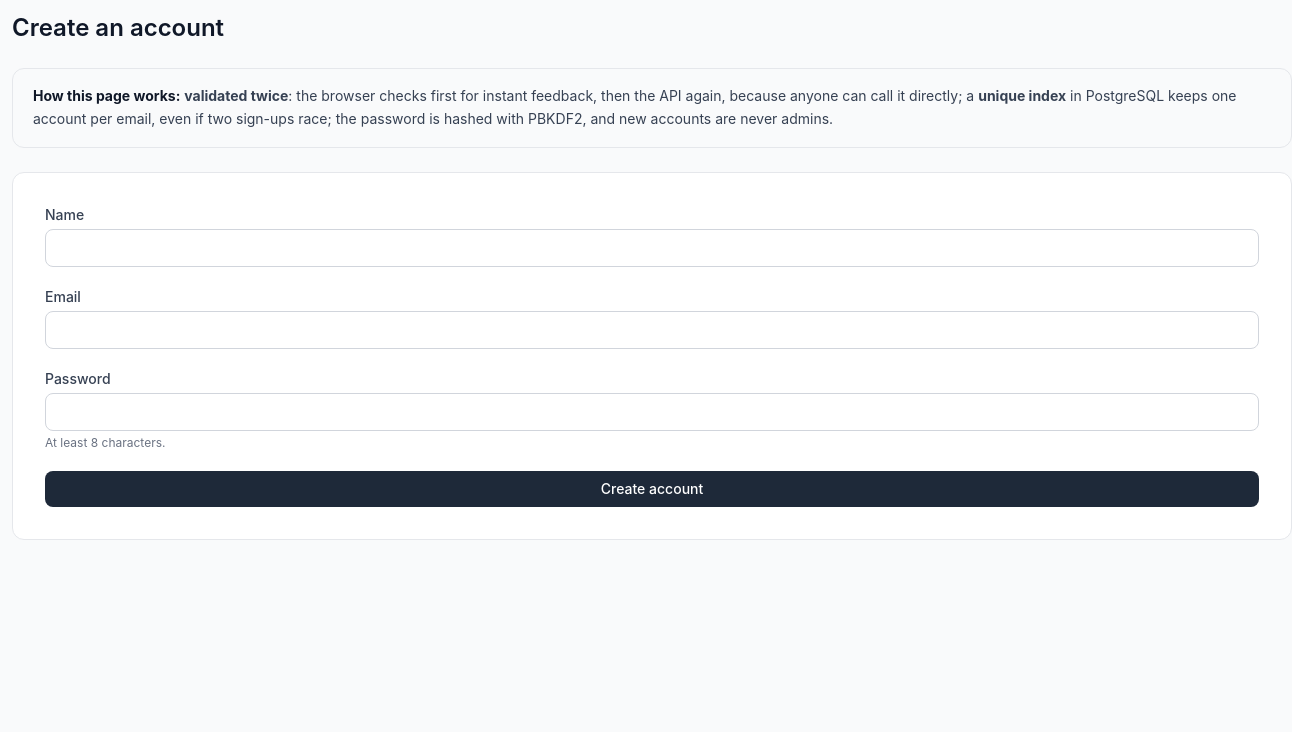
RegisterPage › shows validation errors under each named field
Type "New User" into the field labelled "Name" at x=652, y=248, box [45,228,1259,266]
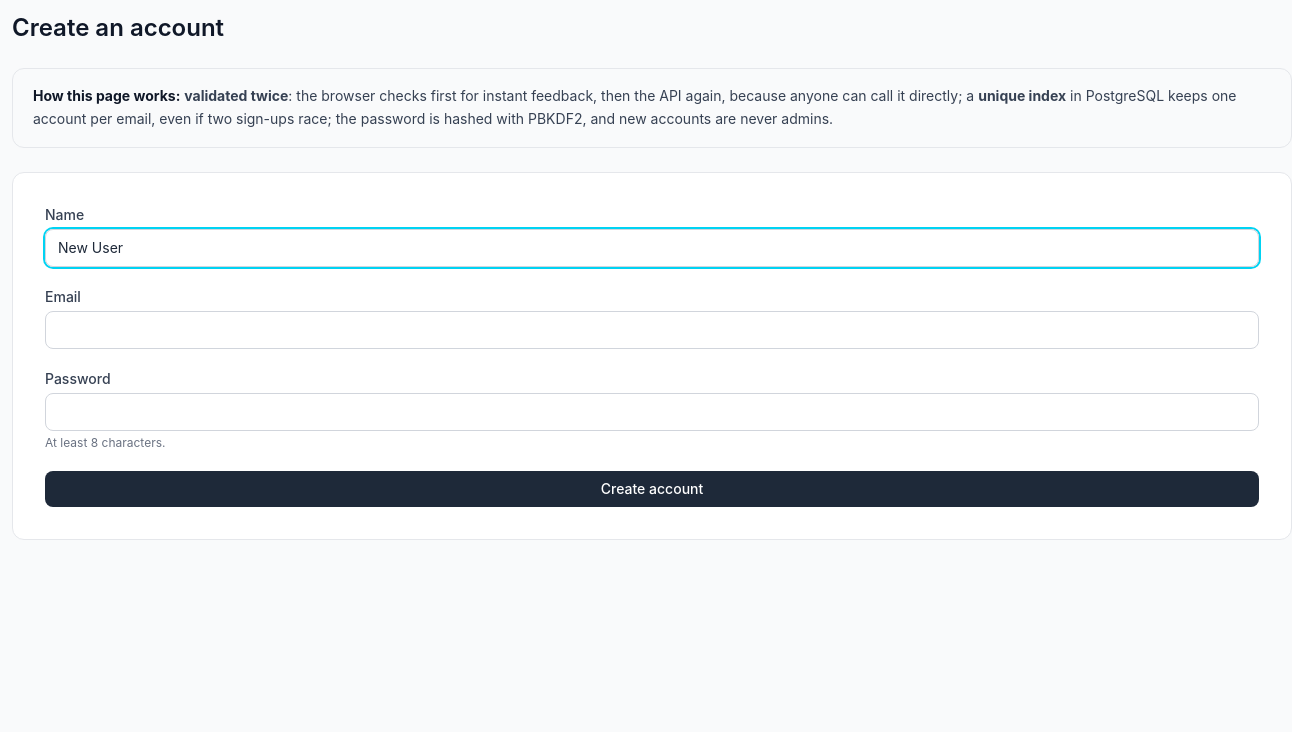
Type "new.user@example.com" into the field labelled "Email" at x=652, y=330, box [45,310,1259,348]
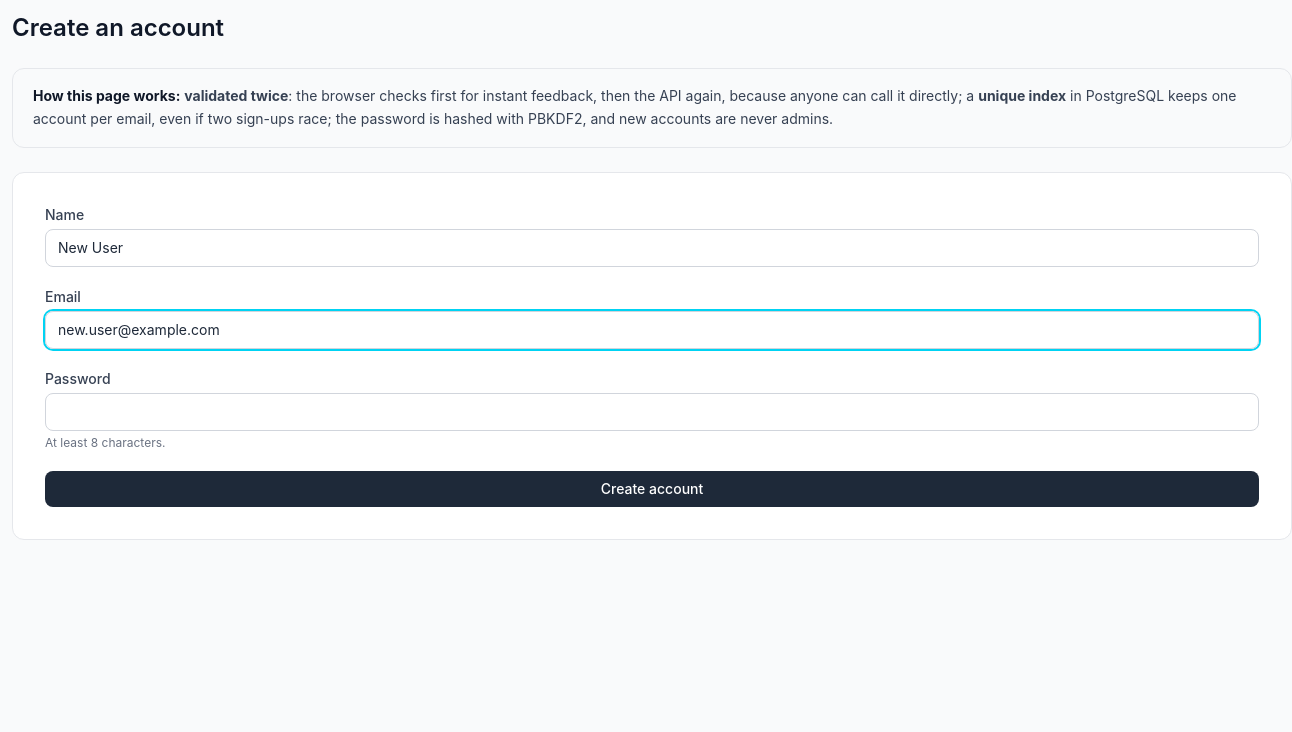
Type "secret-password" into the password field labelled "Password" at x=652, y=412, box [45,392,1259,430]
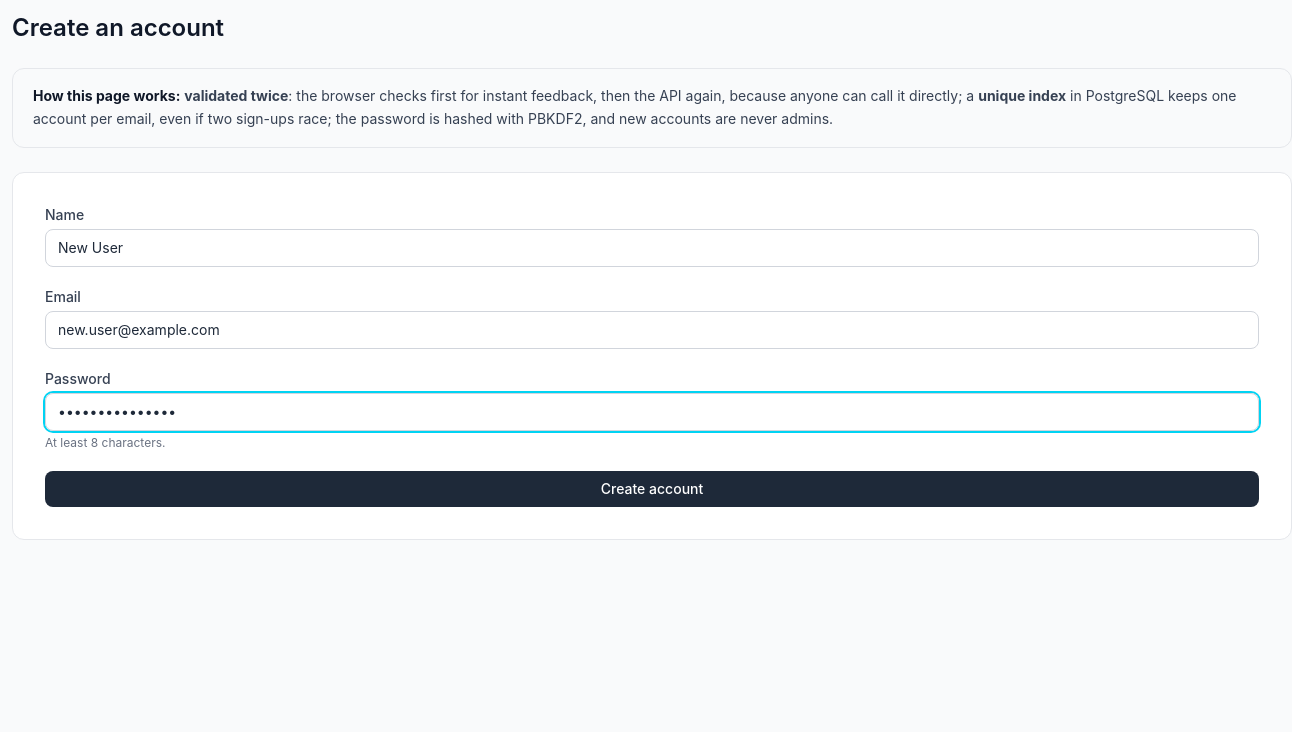
Click the button "Create account" at x=652, y=488, box [45,470,1259,506]
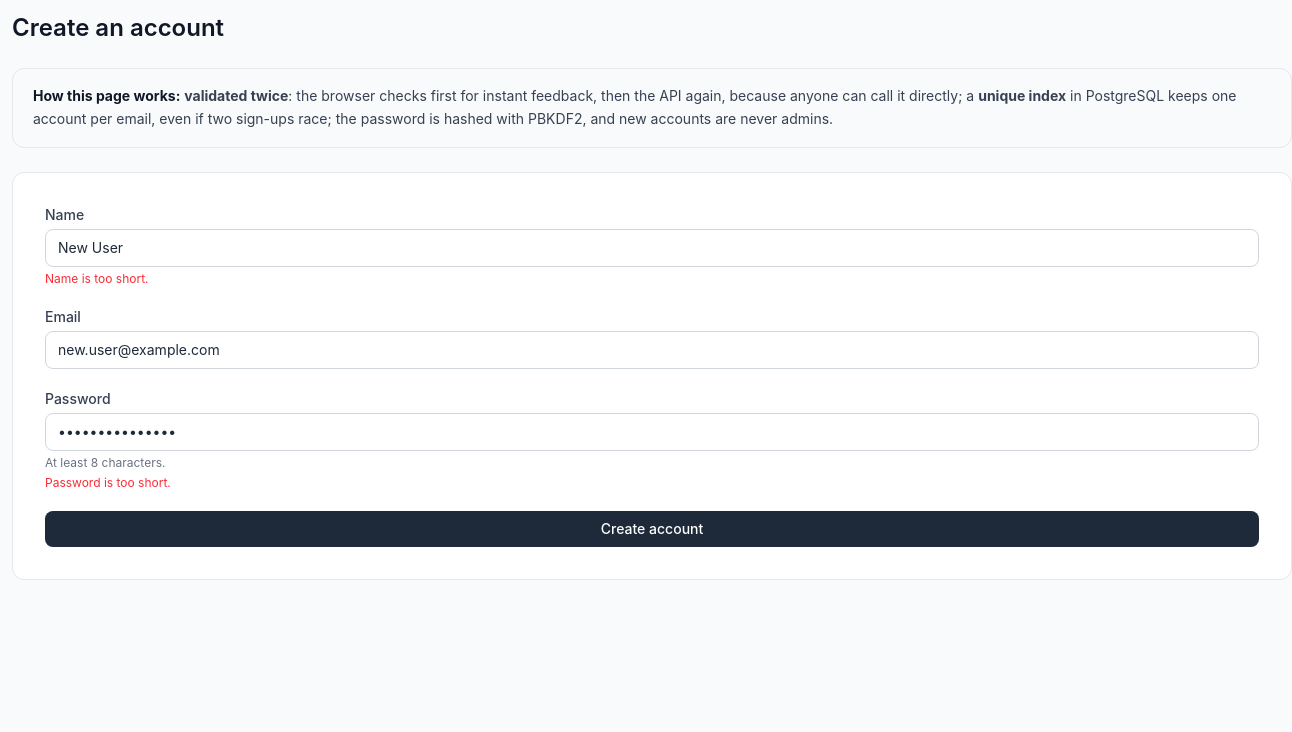
Result: the text "Name is too short." is shown at [45,270,149,286]
Result: the text "Password is too short." is shown at [45,474,171,490]
